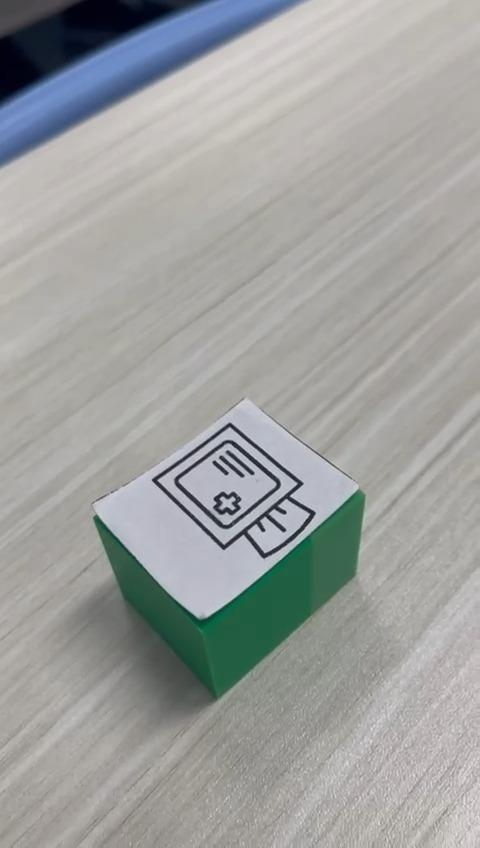Gauze: (90, 395, 366, 700)
